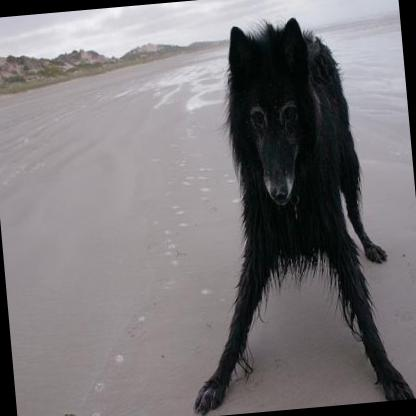groenendael: (160, 8, 412, 416)
